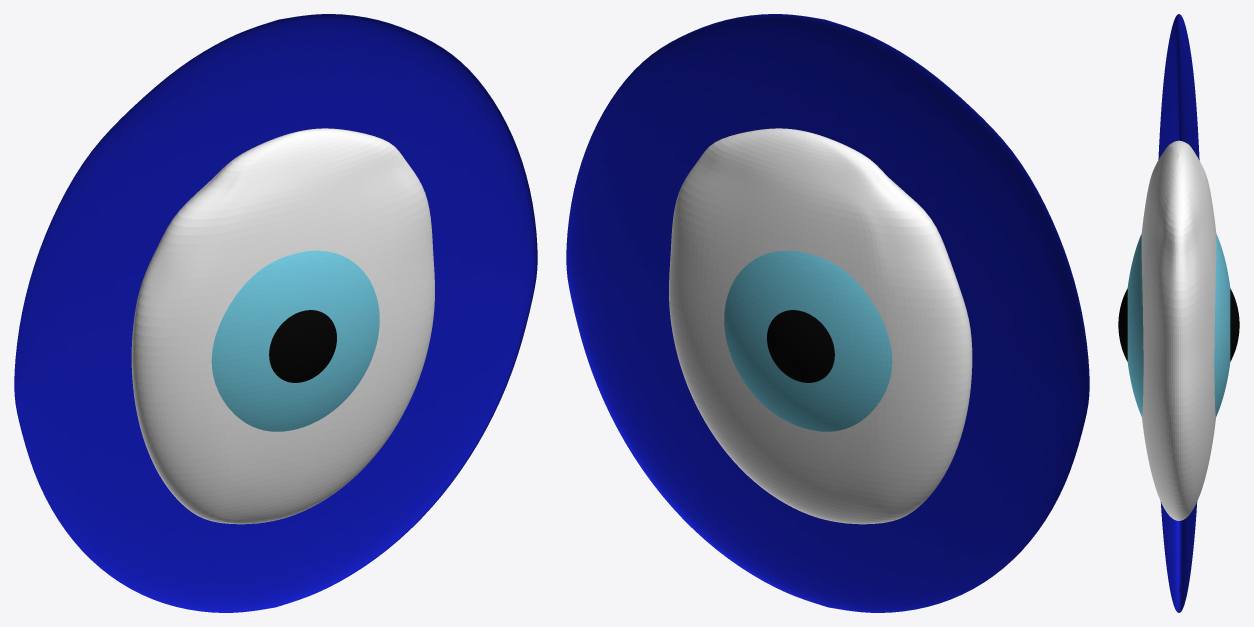
File: koz.fbx
The picture shows the model from 3 angles, left to right: view 1: azimuth 30°, elevation 25°; view 2: azimuth 150°, elevation 25°; view 3: azimuth 270°, elevation 25°; orthographic projection. The views are drawn at different scales.
Visible parts, largest first — view 1: KOZ; view 2: KOZ; view 3: KOZ.
Boxes of the visible parts, left/top/right/bottom form: KOZ: left=14, top=14, right=537, bottom=612; KOZ: left=566, top=14, right=1089, bottom=612; KOZ: left=1118, top=14, right=1239, bottom=612.
Size of the model in its own units: 323 by 347 by 68.58.
